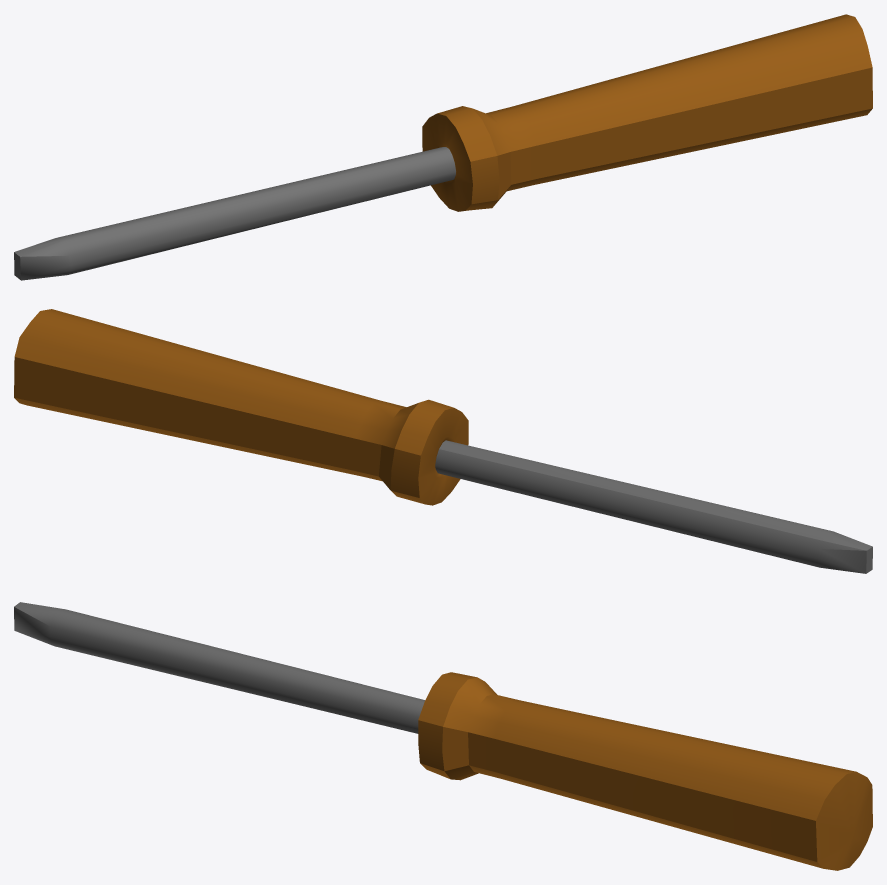
The model's file is Screwdriver.fbx.
3 views of the same model, one above another, from view 1: azimuth 30°, elevation 25°; view 2: azimuth 150°, elevation 25°; view 3: azimuth 330°, elevation 25° (orthographic).
Visible parts, largest first — view 1: Screwdriver; view 2: Screwdriver; view 3: Screwdriver.
Boxes of the visible parts, <box> form: Screwdriver: <box>14,14,872,280</box>; Screwdriver: <box>14,309,872,573</box>; Screwdriver: <box>14,602,872,870</box>.
Size of the model in its own units: 46.07 by 5.01 by 4.93.
